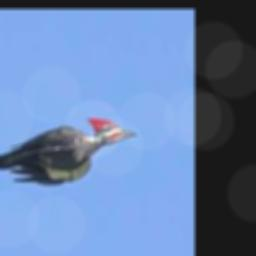Woodpecker: (0, 117, 137, 184)
